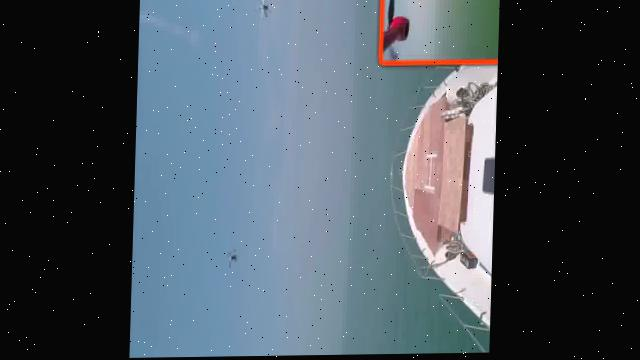drone: (222, 235, 252, 279), (251, 0, 280, 23)
